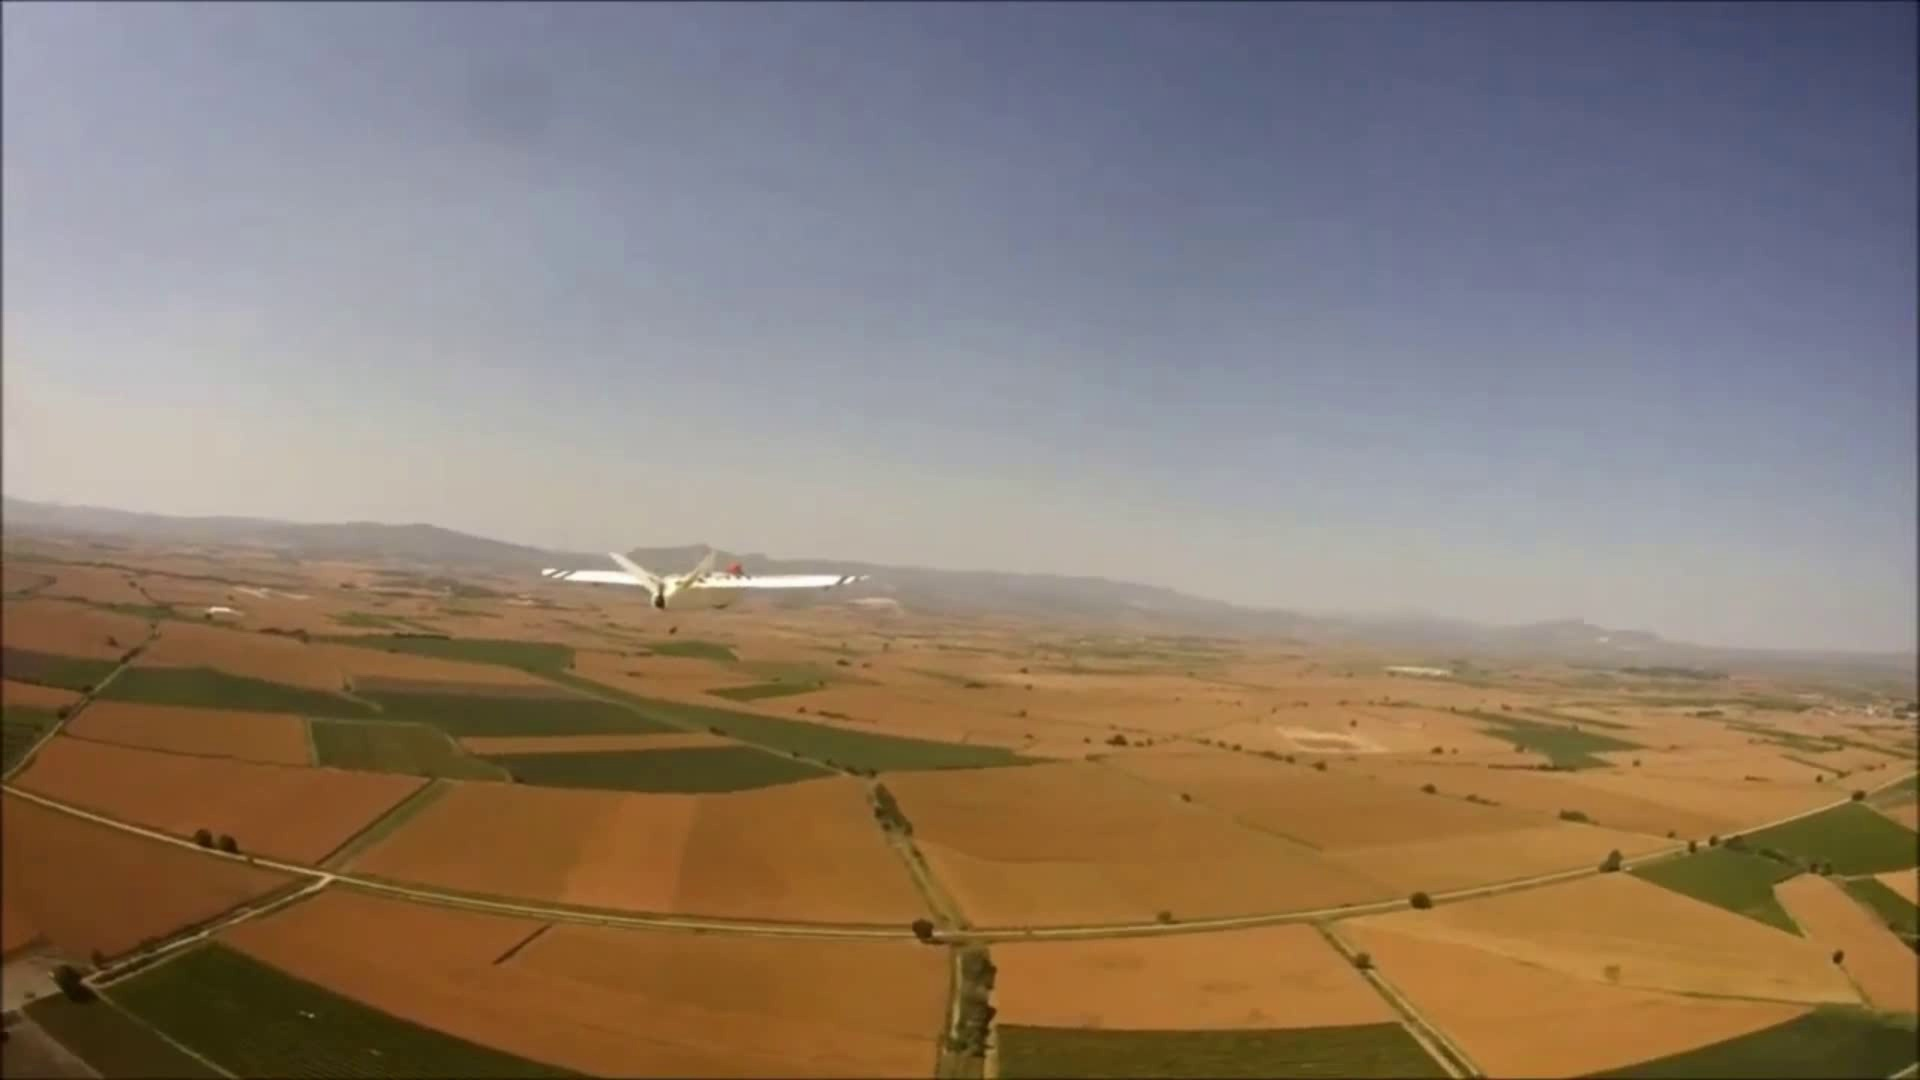airplane: (415, 538, 862, 611), (533, 545, 862, 611)
